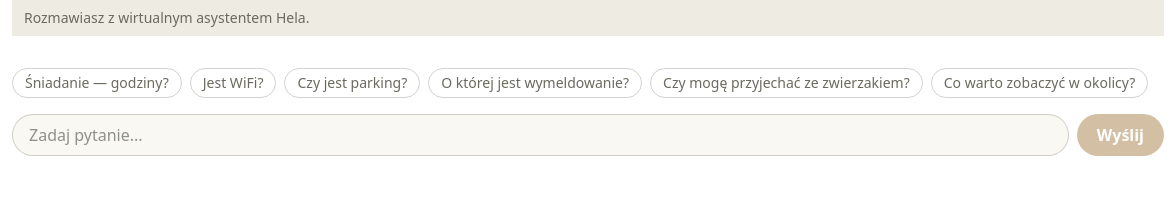
ConciergeChat › shows Quick Reply chips when the chat is empty and hides them after the first message
Expected: the button "Śniadanie — godziny?" is shown, [12, 68, 182, 98]
Click the button "Jest WiFi?" at (233, 83), box [190, 68, 276, 98]
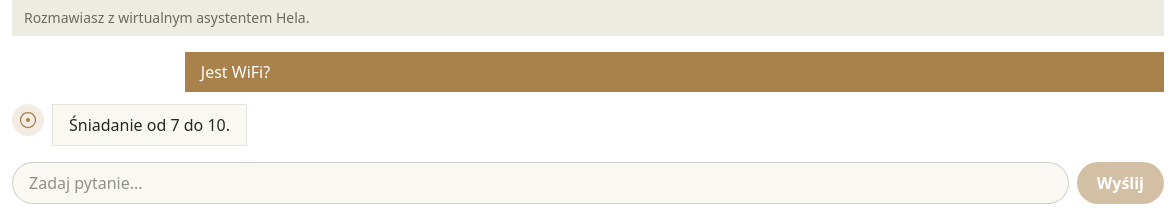
Expected: the text "Jest WiFi?" is shown, [185, 52, 1164, 92]
Expected: the button "Śniadanie — godziny?" is gone
